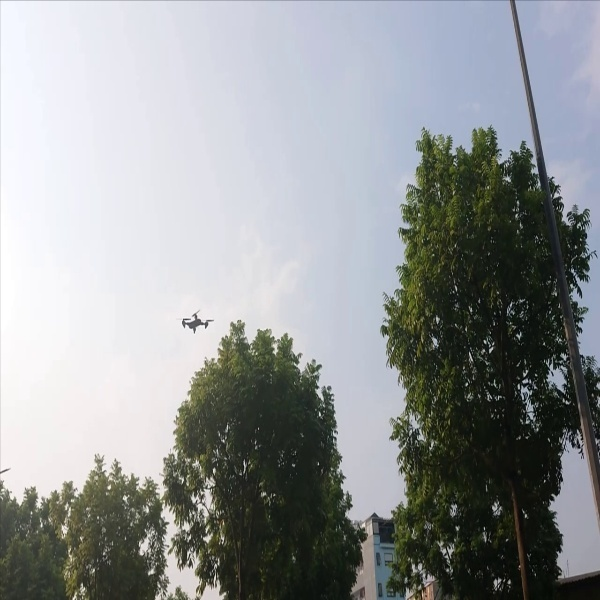drone: (176, 307, 219, 338)
